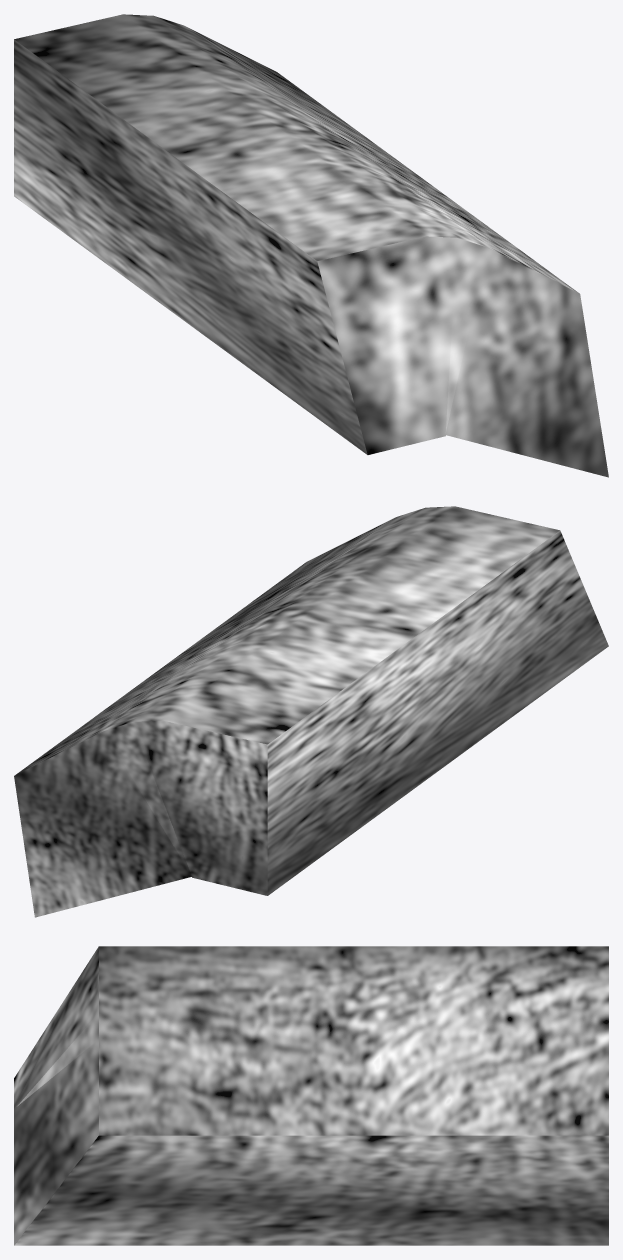
Rendered from techo_paja_punta_1x2.fbx.
The picture shows the model from 3 angles, top to bottom: view 1: azimuth 30°, elevation 25°; view 2: azimuth 150°, elevation 25°; view 3: azimuth 270°, elevation 25°; orthographic projection. The views are drawn at different scales.
Parts seen in each view (by area): view 1: techo_paja_punta_1x2; view 2: techo_paja_punta_1x2; view 3: techo_paja_punta_1x2.
Boxes of the visible parts, x1=… form: techo_paja_punta_1x2: x1=14, y1=14, x2=608, y2=477; techo_paja_punta_1x2: x1=14, y1=506, x2=608, y2=917; techo_paja_punta_1x2: x1=14, y1=946, x2=608, y2=1245.
Bounding box in the file's own units: 70.07 × 60.68 × 163.
